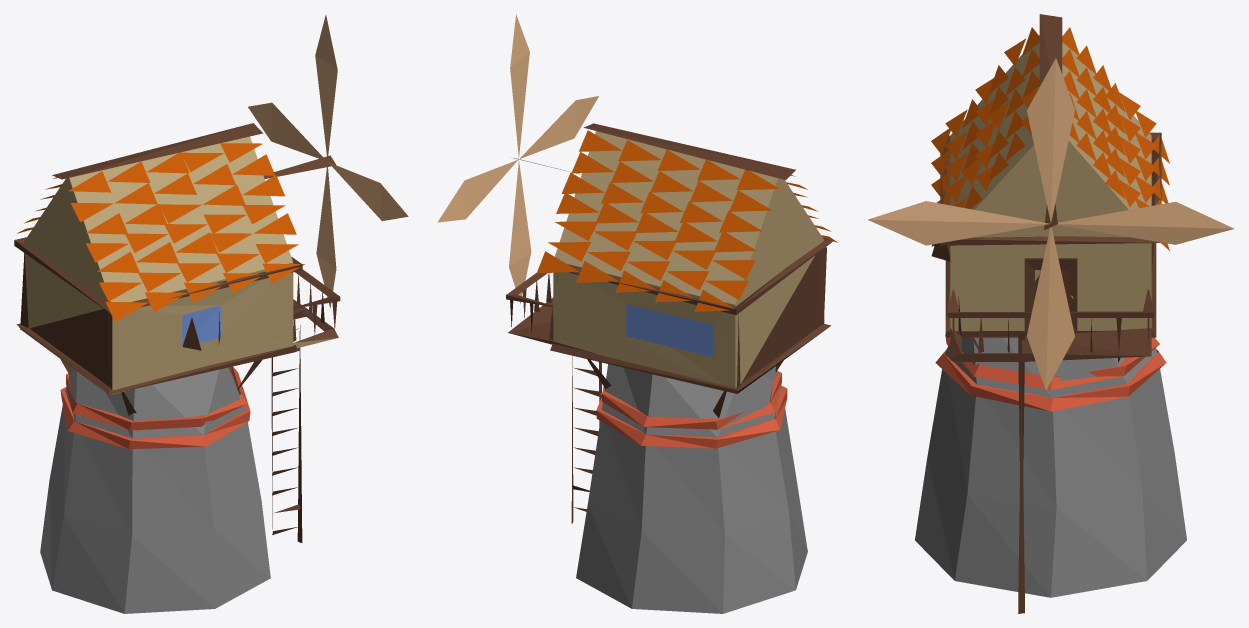
Rendered from windMill LOD2.fbx.
The picture shows the model from 3 angles, left to right: view 1: azimuth 30°, elevation 25°; view 2: azimuth 150°, elevation 25°; view 3: azimuth 270°, elevation 25°; orthographic projection. The views are drawn at different scales.
Parts seen in each view (by area): view 1: Windmill_Cube.002; view 2: Windmill_Cube.002; view 3: Windmill_Cube.002.
Part boxes in pixels (left/top/right/bottom): Windmill_Cube.002: left=14, top=15, right=408, bottom=613; Windmill_Cube.002: left=437, top=14, right=837, bottom=613; Windmill_Cube.002: left=867, top=14, right=1234, bottom=613.
Bounding box in the file's own units: 1361 × 2344 × 1349.
